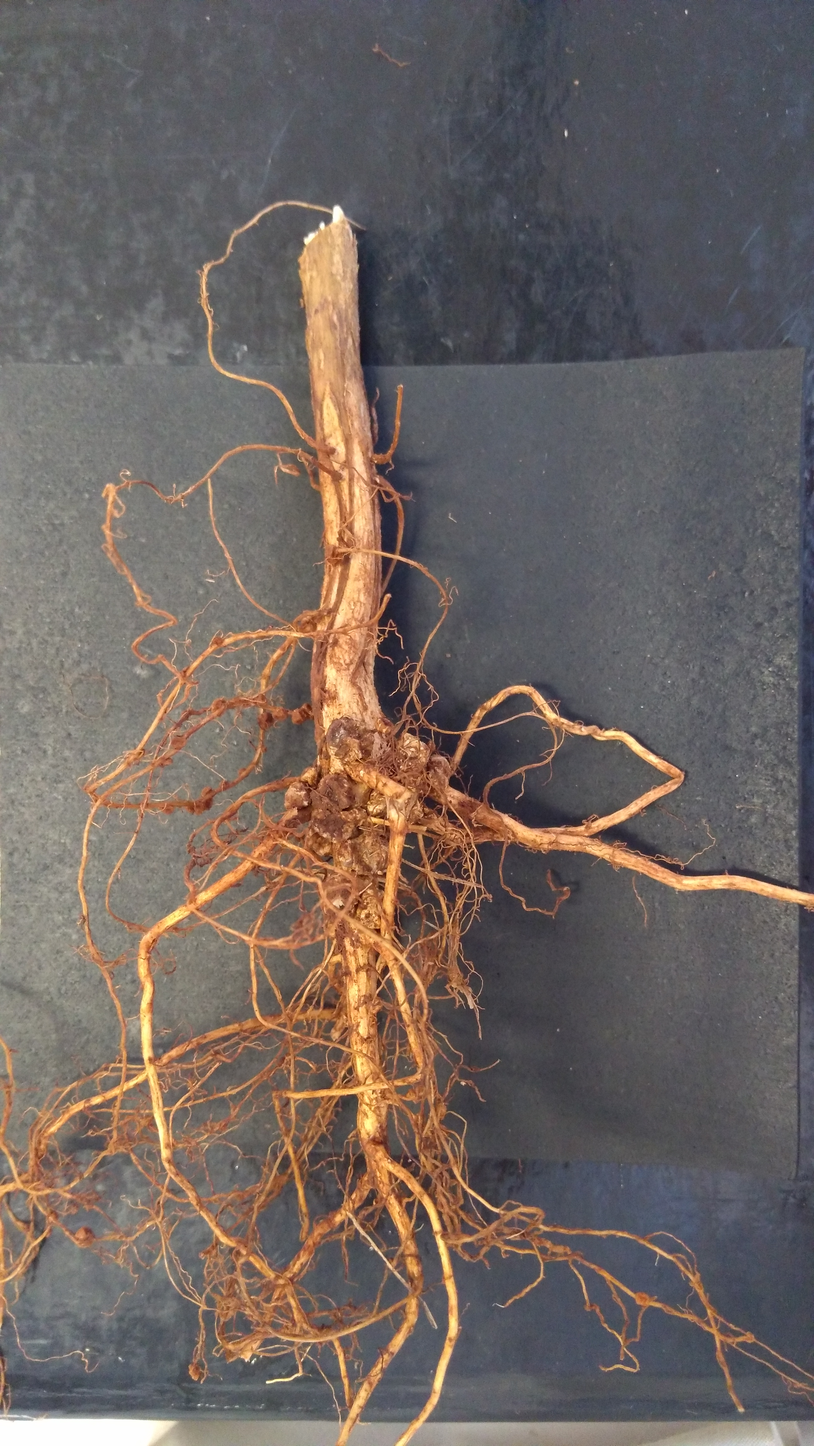nodule: (326, 630, 361, 676), (321, 874, 357, 918), (311, 808, 355, 842), (318, 772, 355, 811), (336, 837, 372, 876), (324, 716, 355, 760), (358, 834, 390, 871), (366, 784, 390, 817), (283, 781, 311, 809), (359, 895, 382, 929), (408, 740, 431, 771), (356, 725, 375, 760), (396, 733, 421, 757), (349, 922, 376, 944), (218, 1295, 240, 1322), (404, 798, 425, 826), (429, 753, 451, 779), (358, 1017, 379, 1042), (73, 1225, 95, 1248), (343, 736, 361, 764), (340, 808, 368, 826), (300, 765, 320, 789), (430, 767, 450, 790), (312, 836, 332, 856), (422, 807, 439, 829), (256, 712, 275, 731), (374, 716, 394, 734), (209, 697, 226, 716), (324, 544, 340, 564), (291, 708, 307, 725), (447, 966, 463, 983), (187, 1363, 202, 1381), (271, 706, 287, 722), (635, 1291, 651, 1307), (282, 463, 301, 476), (101, 482, 115, 499), (435, 1102, 447, 1121), (298, 609, 315, 622), (300, 702, 313, 719), (171, 735, 186, 749), (192, 801, 206, 815), (436, 1123, 449, 1138), (300, 622, 315, 634), (383, 947, 396, 960), (255, 693, 268, 705), (159, 757, 173, 768), (158, 805, 174, 814), (200, 785, 212, 797), (203, 797, 213, 811), (211, 636, 223, 647), (238, 767, 250, 778), (415, 1084, 426, 1096), (126, 754, 139, 764), (48, 1210, 58, 1223), (448, 1156, 458, 1169), (745, 1331, 755, 1343), (371, 1004, 384, 1013), (184, 803, 195, 813), (694, 1282, 704, 1292), (405, 1089, 416, 1098), (256, 745, 268, 753), (43, 1227, 52, 1237), (428, 740, 436, 750), (219, 780, 228, 788), (299, 298, 305, 309), (464, 861, 472, 868)
